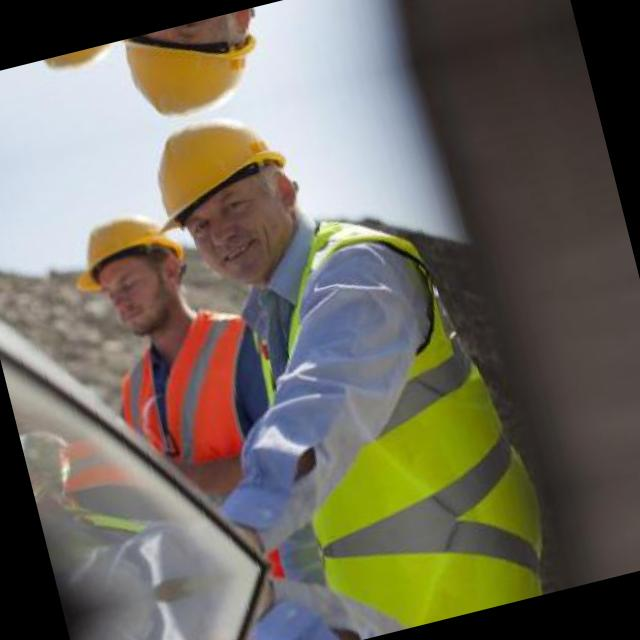helmet: (124, 96, 324, 316), (58, 182, 214, 354), (100, 6, 280, 138), (22, 34, 152, 100)
